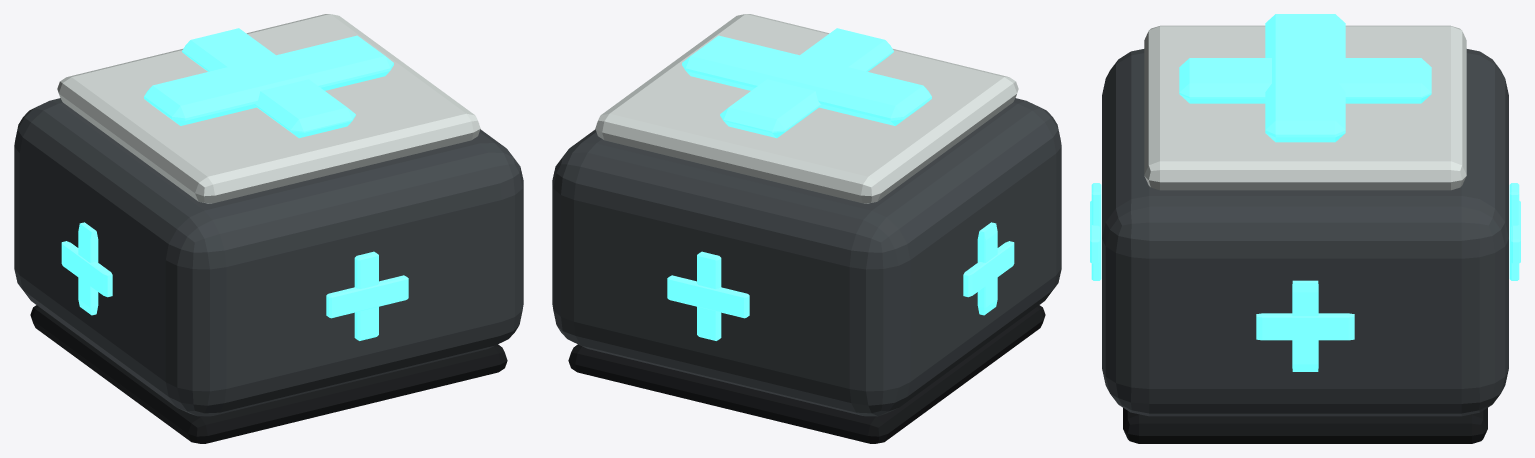
The model's file is CyberHealthPack.fbx.
3 renders of one model, left to right at view 1: azimuth 30°, elevation 25°; view 2: azimuth 150°, elevation 25°; view 3: azimuth 270°, elevation 25°, orthographic. The views are drawn at different scales.
Parts seen in each view (by area): view 1: CHP_main armored med pack body, CHP_top white medical armor plate, CHP_bottom black gasket seam, CHP_health cross horizontal bar, CHP_health cross vertical bar, CHP_front side plus horizontal, CHP_front side plus vertical, CHP_left side plus horizontal, CHP_left side plus vertical; view 2: CHP_main armored med pack body, CHP_top white medical armor plate, CHP_bottom black gasket seam, CHP_health cross horizontal bar, CHP_health cross vertical bar, CHP_rear side plus horizontal, CHP_rear side plus vertical, CHP_left side plus horizontal, CHP_left side plus vertical; view 3: CHP_main armored med pack body, CHP_top white medical armor plate, CHP_bottom black gasket seam, CHP_health cross horizontal bar, CHP_health cross vertical bar, CHP_right side plus horizontal, CHP_right side plus vertical, CHP_front side plus vertical, CHP_rear side plus vertical, CHP_front side plus horizontal, CHP_rear side plus horizontal.
Boxes of the visible parts, left/top/right/bottom form: CHP_main armored med pack body: left=14, top=98, right=523, bottom=416; CHP_top white medical armor plate: left=57, top=14, right=480, bottom=203; CHP_bottom black gasket seam: left=30, top=305, right=507, bottom=443; CHP_health cross horizontal bar: left=144, top=35, right=393, bottom=125; CHP_health cross vertical bar: left=182, top=28, right=355, bottom=138; CHP_front side plus horizontal: left=326, top=275, right=408, bottom=318; CHP_front side plus vertical: left=354, top=251, right=378, bottom=340; CHP_left side plus horizontal: left=61, top=241, right=112, bottom=297; CHP_left side plus vertical: left=78, top=222, right=98, bottom=315; CHP_main armored med pack body: left=552, top=98, right=1061, bottom=416; CHP_top white medical armor plate: left=595, top=14, right=1018, bottom=203; CHP_bottom black gasket seam: left=568, top=305, right=1045, bottom=443; CHP_health cross horizontal bar: left=682, top=35, right=931, bottom=125; CHP_health cross vertical bar: left=720, top=28, right=893, bottom=138; CHP_rear side plus horizontal: left=667, top=275, right=749, bottom=318; CHP_rear side plus vertical: left=697, top=251, right=721, bottom=340; CHP_left side plus horizontal: left=963, top=241, right=1014, bottom=297; CHP_left side plus vertical: left=977, top=222, right=997, bottom=315; CHP_main armored med pack body: left=1102, top=49, right=1508, bottom=416; CHP_top white medical armor plate: left=1144, top=25, right=1466, bottom=190; CHP_bottom black gasket seam: left=1123, top=408, right=1487, bottom=443; CHP_health cross horizontal bar: left=1265, top=14, right=1345, bottom=142; CHP_health cross vertical bar: left=1179, top=58, right=1431, bottom=103; CHP_right side plus horizontal: left=1256, top=313, right=1354, bottom=340; CHP_right side plus vertical: left=1292, top=280, right=1318, bottom=371; CHP_front side plus vertical: left=1091, top=183, right=1101, bottom=280; CHP_rear side plus vertical: left=1509, top=183, right=1519, bottom=280; CHP_front side plus horizontal: left=1090, top=201, right=1099, bottom=263; CHP_rear side plus horizontal: left=1511, top=201, right=1520, bottom=263.
Size of the model in its own units: 48.4 by 34.89 by 45.44.
